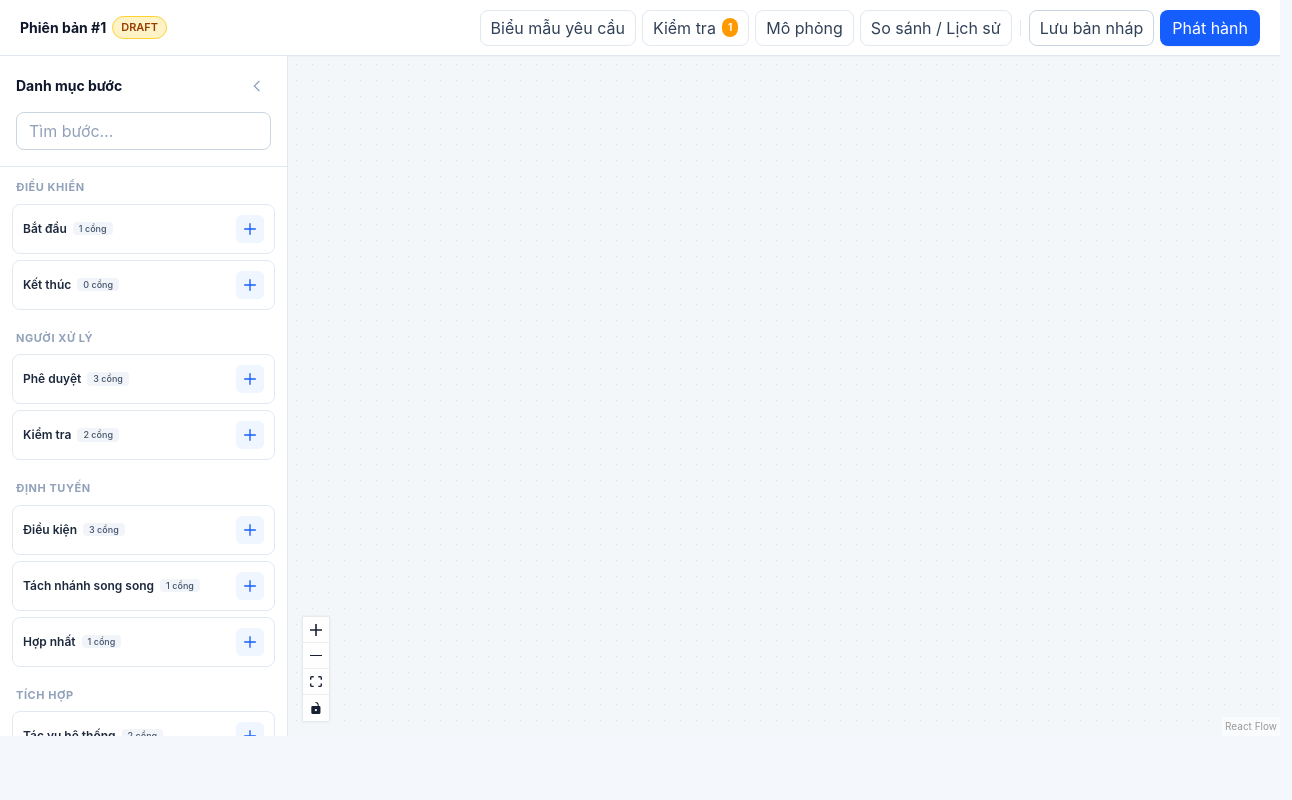
WorkflowBuilder Component › collapses and reopens the node catalog to give the canvas more space
Click the button with test id "collapse-node-catalog". click: (257, 86)
box: [243, 72, 271, 100]
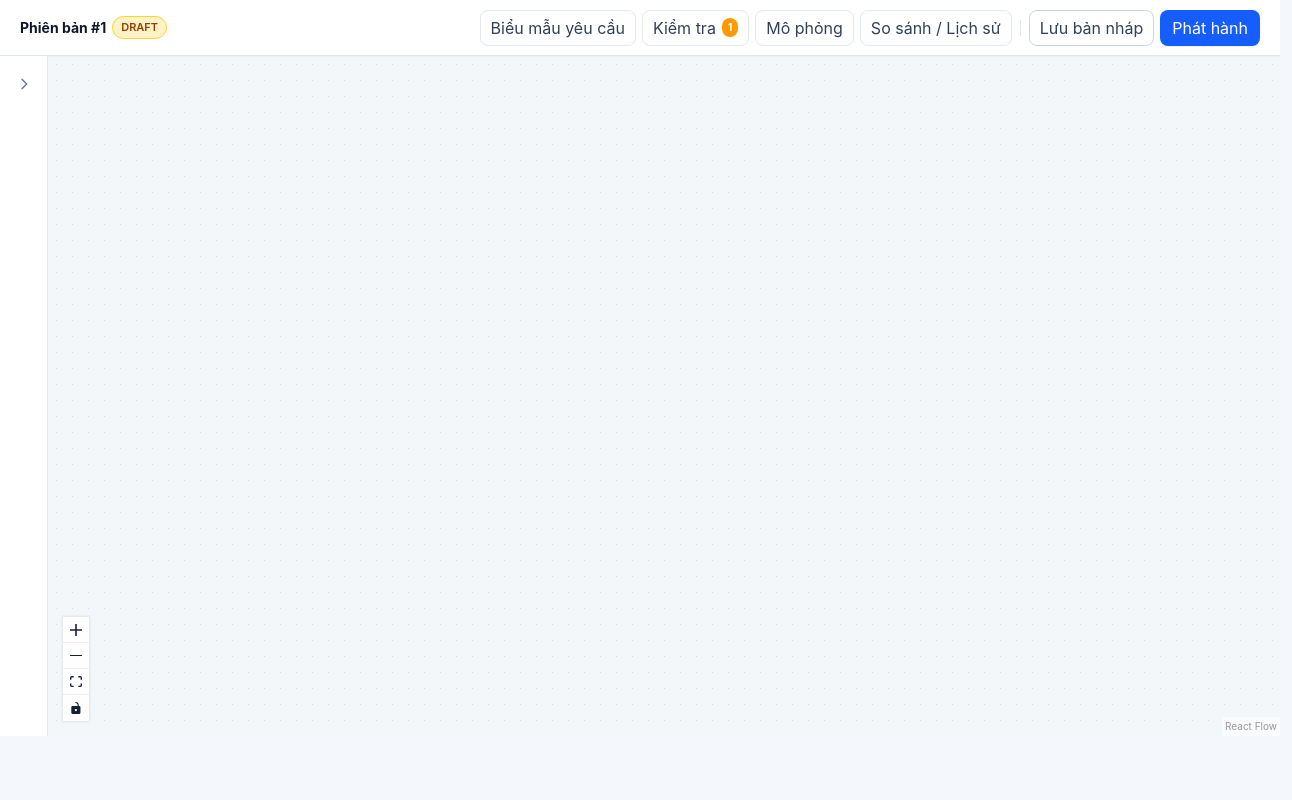
Expected: the button with test id "expand-node-catalog" is shown
Expected: the button with test id "collapse-node-catalog" is gone
Click the button with test id "expand-node-catalog". click: (24, 84)
box: [8, 68, 40, 100]
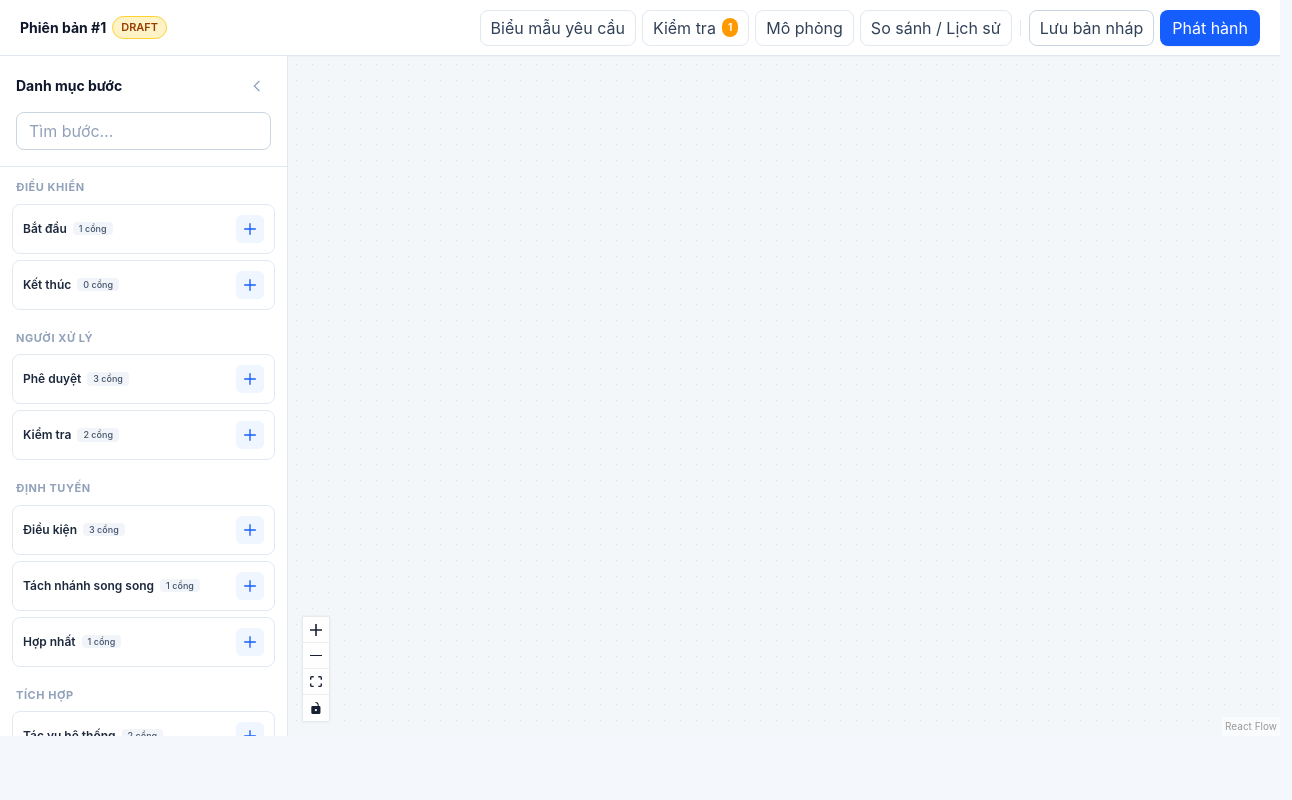
Expected: the button with test id "collapse-node-catalog" is shown, [243, 72, 271, 100]
